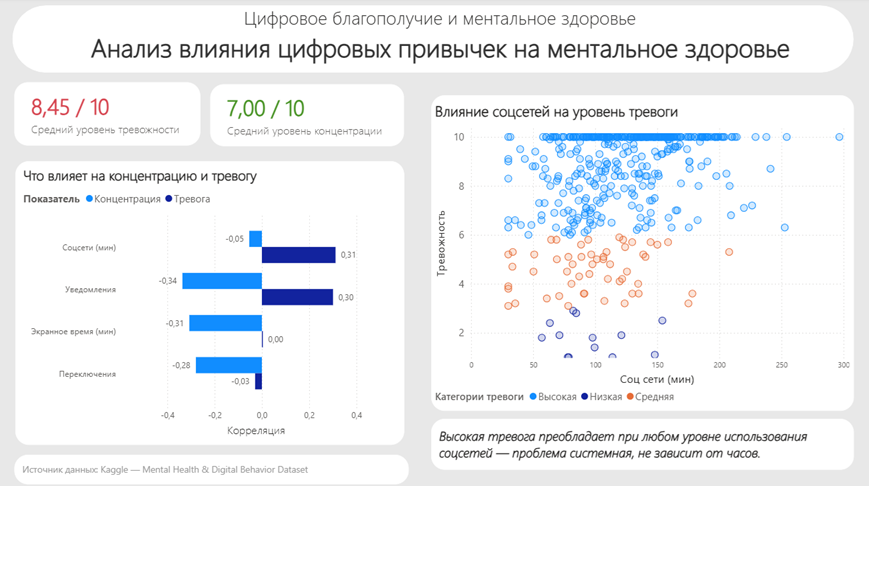

The page's visual inventory and layout, read from the dashboard file:
{"tool":"powerbi","page":{"name":"Страница 1","canvas":[1280,720],"ordinal":0},"visuals":[{"type":"scatterChart","title":"Влияние соцсетей на уровень тревоги","fields":{"X":["mental_health_digital_behavior_data.Соц сети (мин)"],"Y":["mental_health_digital_behavior_data.Тревожность"],"Series":["mental_health_digital_behavior_data.Категория тревоги"]},"box":[640,138.3,603.3,493.3],"z":0},{"type":"cardVisual","fields":{"Data":["Avg(mental_health_digital_behavior_data.Тревожность)"]},"box":[31.7,138.3,223.3,103.3],"z":1000},{"type":"cardVisual","fields":{"Data":["Avg(mental_health_digital_behavior_data.Концентрация)"]},"box":[295,138.3,246.7,103.3],"z":2000},{"type":"textbox","box":[15,58.3,1260,80],"z":4000},{"type":"clusteredBarChart","title":"Что влияет на концентрацию и тревогу","fields":{"Category":["correlations.Фактор"],"Y":["Avg(correlations.Корреляция)"],"Series":["correlations.Показатель"]},"box":[25,268.3,620,406.7],"z":4500},{"type":"textbox","box":[15,675,478.3,33.3],"z":5000},{"type":"textbox","box":[0,0,1280,58.3],"z":6000},{"type":"textbox","box":[640,641.7,586.7,65],"z":7000}]}

Visuals, with their boxes on the page's 1280x720 design canvas (x1, y1, x2, y2). These are canvas units, not pixel positions in the 869x562 screenshot, which may show the page scaled, cropped or inside an application window:
"Влияние соцсетей на уровень тревоги" scatterChart: [x1=640, y1=138, x2=1243, y2=632]
cardVisual - Avg(mental_health_digital_behavior_data.Тревожность): [x1=32, y1=138, x2=255, y2=242]
cardVisual - Avg(mental_health_digital_behavior_data.Концентрация): [x1=295, y1=138, x2=542, y2=242]
textbox: [x1=15, y1=58, x2=1275, y2=138]
"Что влияет на концентрацию и тревогу" clusteredBarChart: [x1=25, y1=268, x2=645, y2=675]
textbox: [x1=15, y1=675, x2=493, y2=708]
textbox: [x1=0, y1=0, x2=1280, y2=58]
textbox: [x1=640, y1=642, x2=1227, y2=707]
